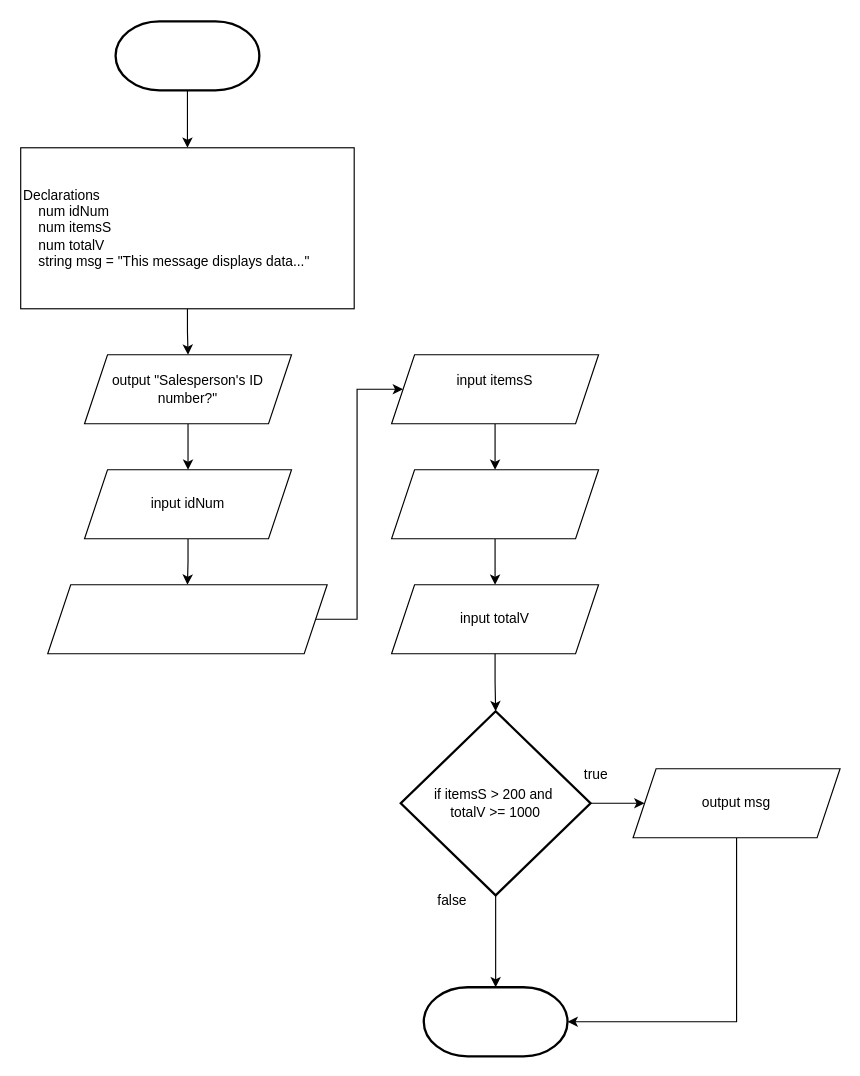
This 860x1076 diagram has some shape labels left out. The shapes that lost their labels are listed below. From the top down, each one's centre as x and y in pixels, then its label:
(187,55): Start
(494,504): output "Total value of items sold?"
(187,619): output "Number of items sold in the last month?"
(495,1021): end
